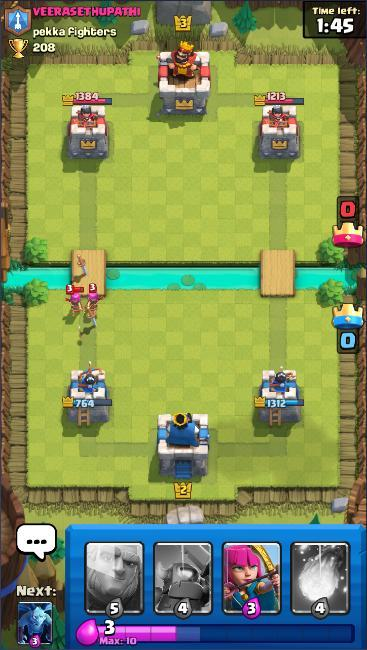enemy_archer: (82, 282, 103, 321), (64, 282, 86, 314)
